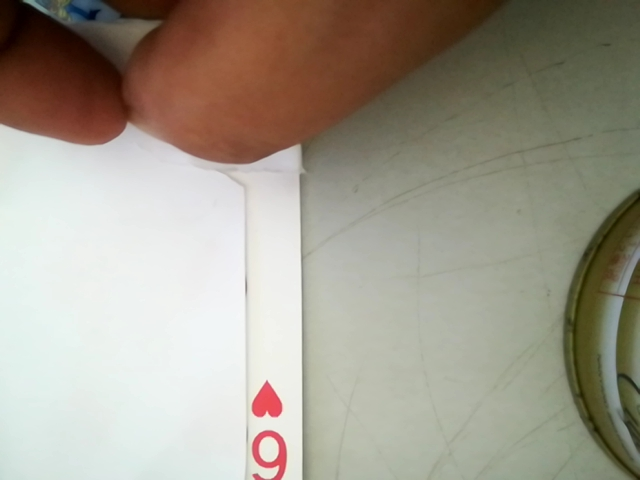hx 6: (228, 370, 295, 478)
